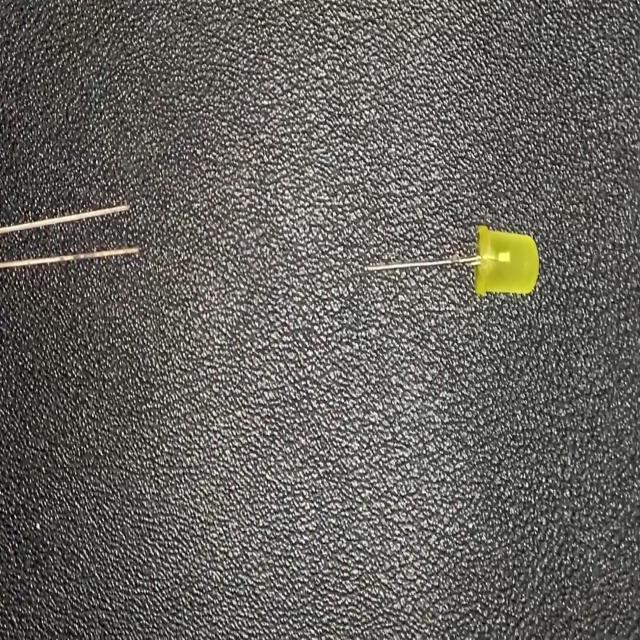missing-leg: (364, 218, 542, 298)
